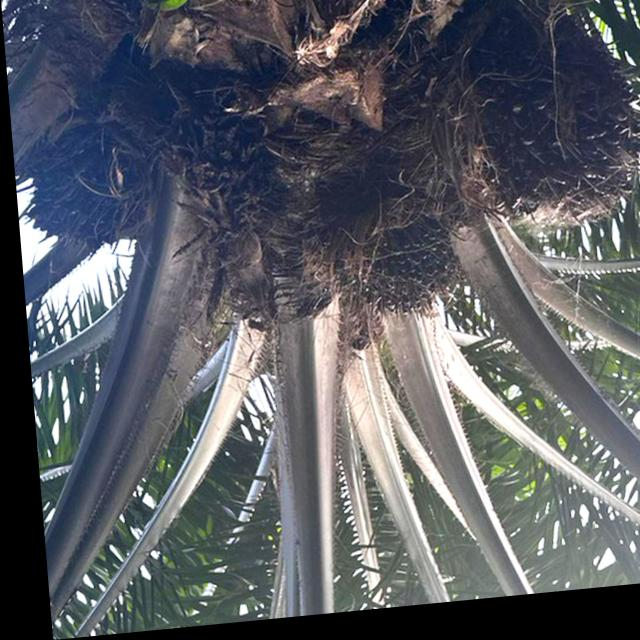unripe: (423, 0, 640, 261), (7, 105, 170, 277), (324, 172, 470, 338)
